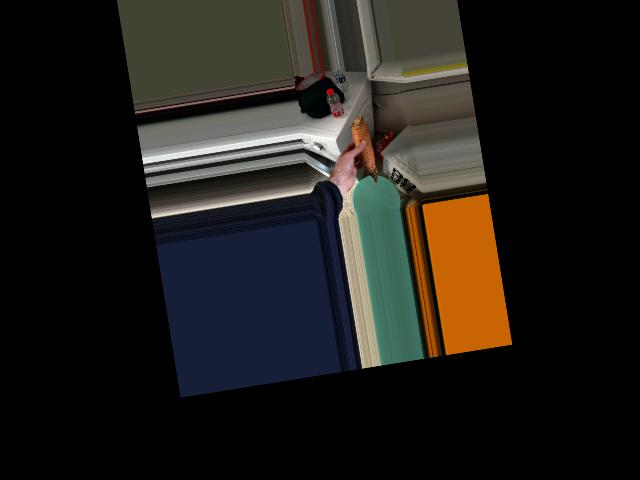sweet_potato: (350, 119, 378, 184)
